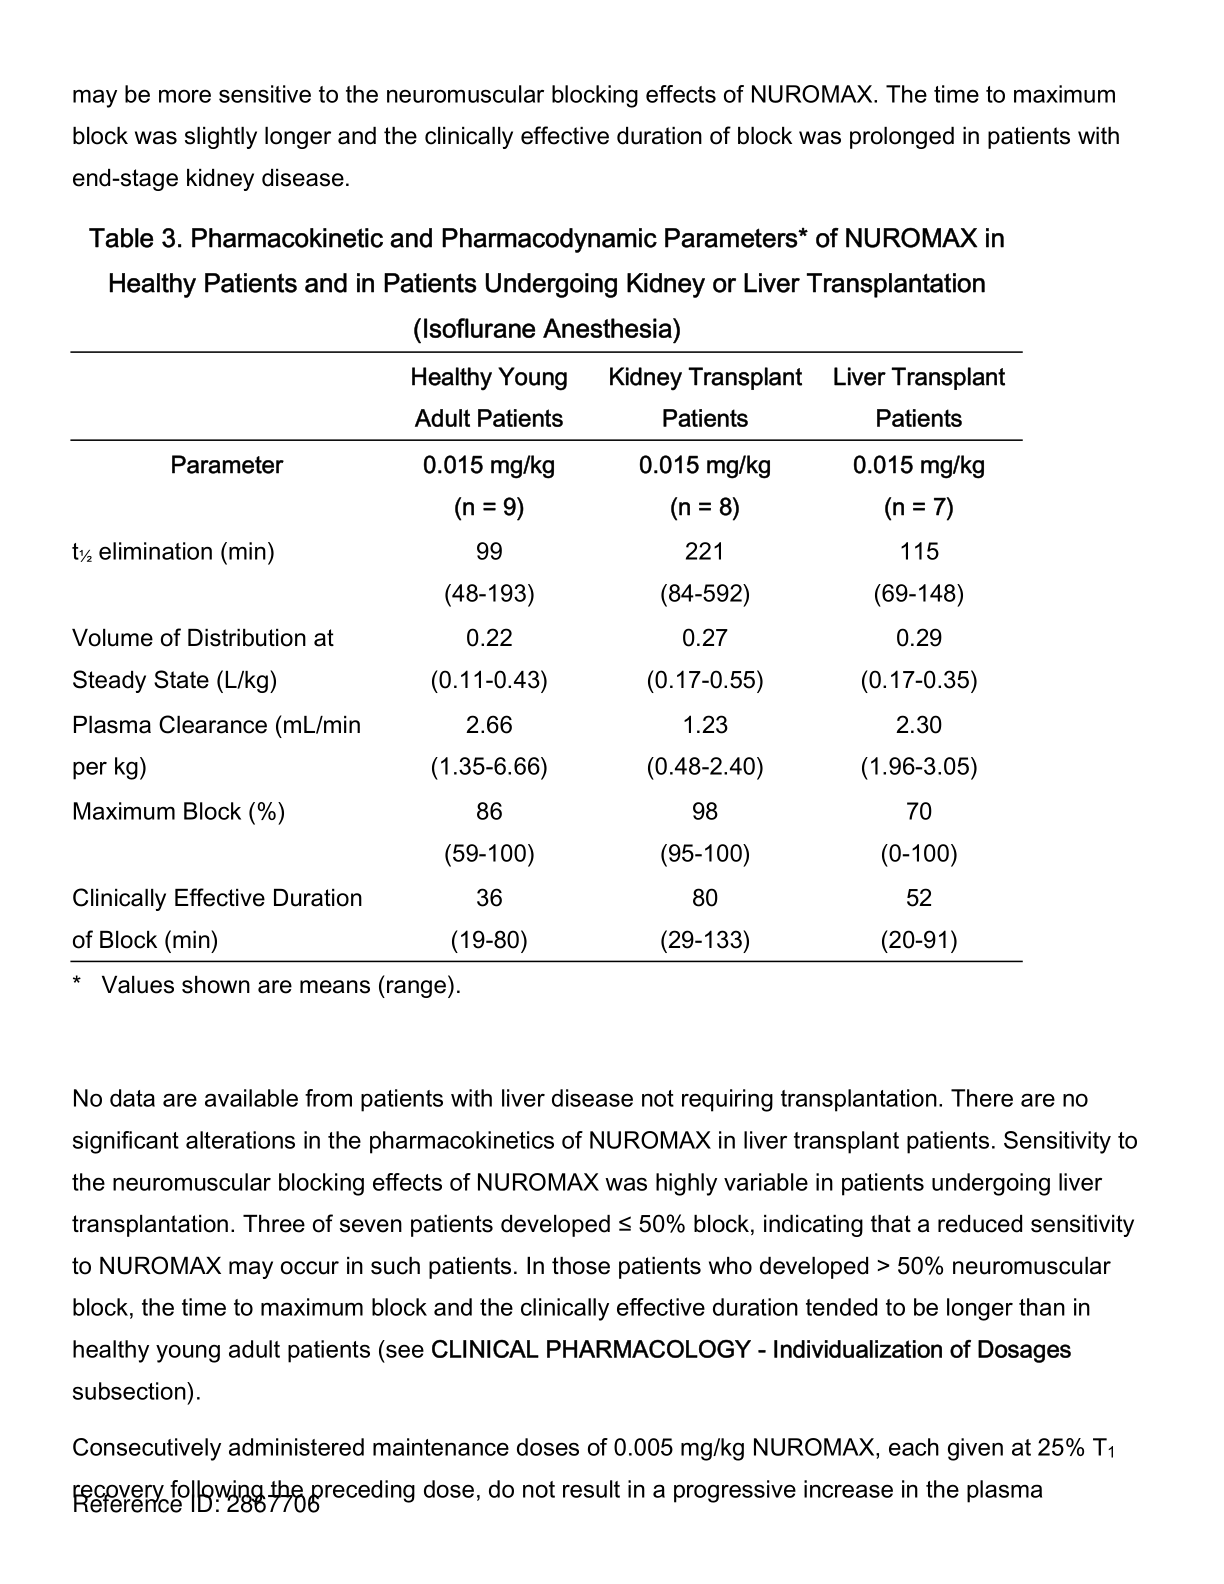partial_lined: (69, 348, 1029, 966)
